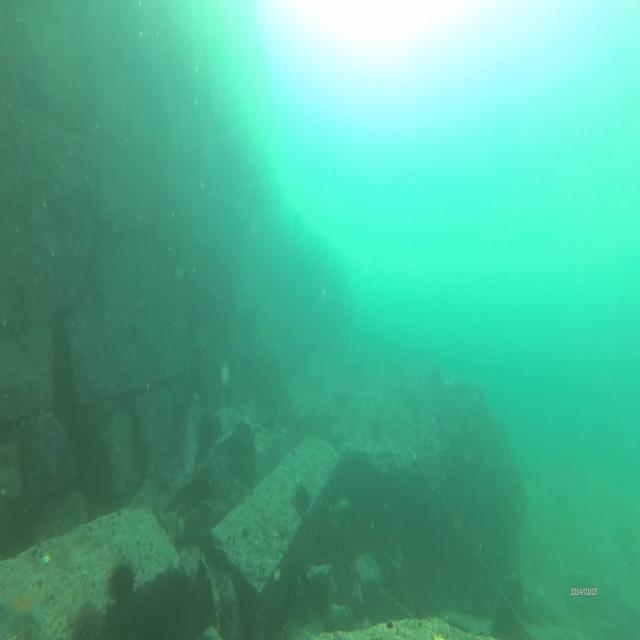echinus: (102, 560, 138, 606), (70, 600, 107, 640), (292, 481, 316, 517), (370, 417, 386, 444)
starfish: (0, 579, 46, 637)
